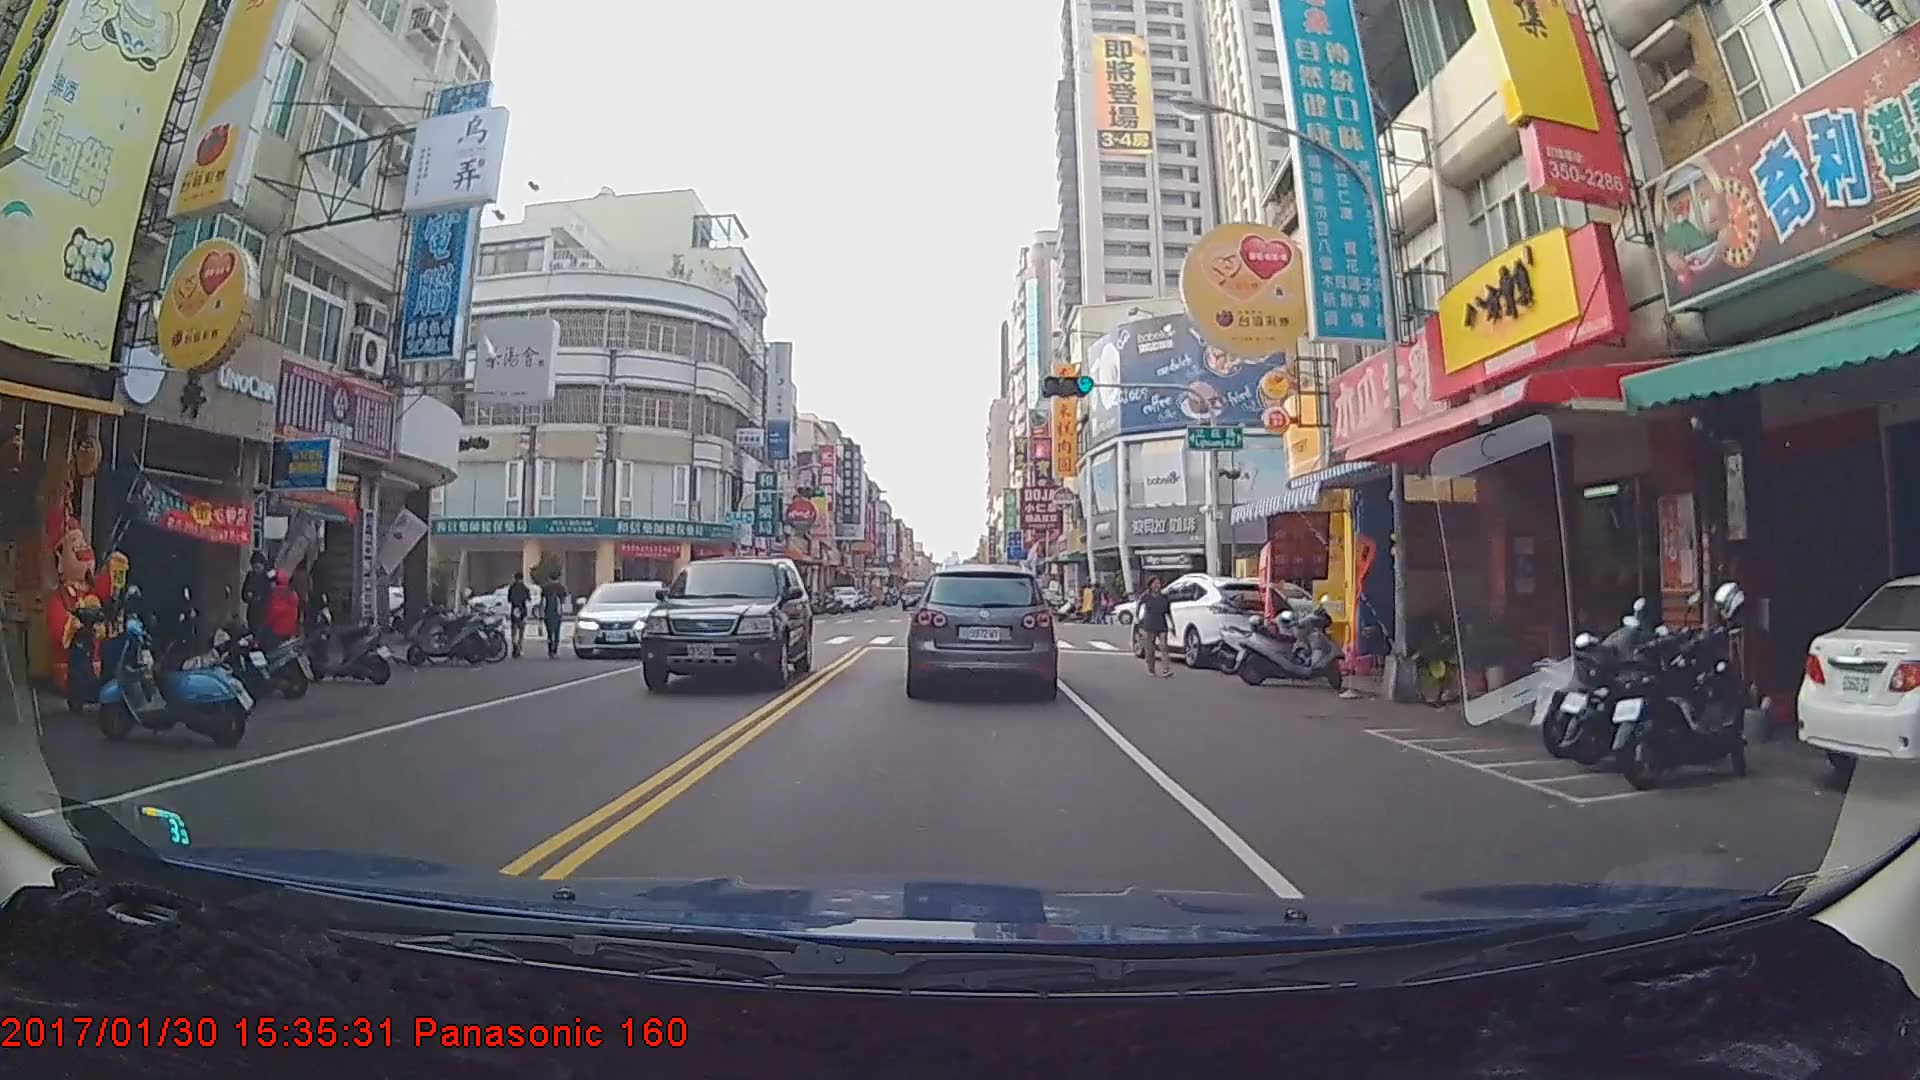pedestrian: (235, 546, 288, 672), (1137, 579, 1175, 676), (535, 567, 572, 656), (508, 572, 535, 661)
rider: (208, 567, 317, 702)
vehicle: (638, 552, 814, 691), (908, 564, 1054, 697), (1129, 573, 1295, 669), (571, 580, 678, 659), (827, 584, 859, 612), (900, 577, 928, 607)
